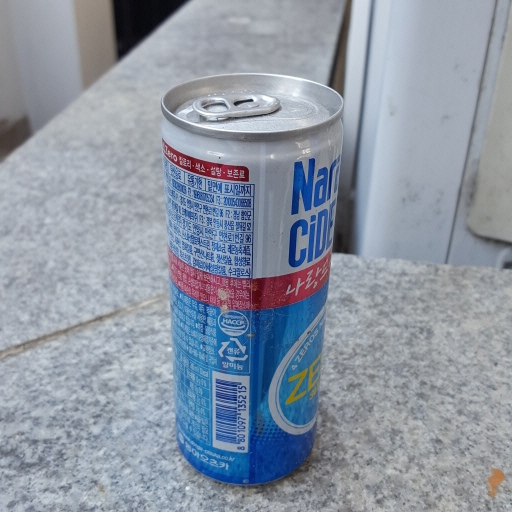Metal_0: (159, 71, 348, 488)
